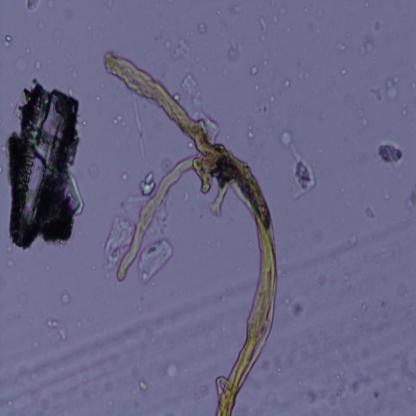Background material: (182, 71, 219, 132), (134, 236, 175, 282), (283, 139, 315, 194), (100, 216, 138, 258), (328, 371, 365, 405), (131, 102, 149, 168), (395, 349, 416, 392), (376, 140, 404, 168), (286, 295, 310, 323), (64, 59, 80, 99), (258, 84, 276, 119), (45, 317, 68, 343), (164, 39, 191, 61), (83, 19, 105, 45), (138, 167, 156, 197), (17, 360, 38, 385), (192, 377, 212, 403), (47, 22, 65, 48), (228, 34, 244, 63), (358, 244, 379, 266), (361, 197, 379, 222), (307, 222, 325, 246), (166, 359, 182, 386), (210, 17, 230, 38), (280, 126, 297, 149), (358, 32, 374, 56), (341, 274, 360, 294), (72, 308, 91, 328), (353, 107, 371, 128), (110, 109, 127, 130), (385, 74, 399, 99), (302, 384, 318, 405), (0, 253, 18, 271), (132, 377, 152, 393), (313, 270, 328, 291), (16, 56, 30, 76), (334, 35, 348, 55), (348, 228, 360, 249), (59, 4, 75, 19), (258, 14, 269, 35), (398, 104, 413, 119), (30, 56, 43, 73), (371, 84, 382, 104), (2, 30, 14, 47), (163, 156, 175, 173), (407, 187, 416, 209), (58, 292, 72, 306), (296, 70, 310, 84), (274, 7, 287, 22), (25, 1, 42, 12), (396, 284, 409, 298), (324, 73, 336, 88), (199, 20, 209, 38), (370, 385, 381, 400), (102, 0, 115, 12), (314, 7, 326, 20), (376, 298, 390, 309), (22, 42, 33, 56), (219, 64, 230, 78), (373, 19, 383, 34), (181, 192, 191, 206), (244, 126, 254, 140), (231, 4, 243, 15), (318, 109, 328, 122), (3, 393, 12, 407), (345, 94, 354, 108), (132, 398, 141, 412), (104, 396, 114, 408), (360, 299, 368, 313), (281, 80, 292, 90), (120, 171, 128, 184), (339, 183, 347, 196), (98, 80, 108, 90), (37, 22, 46, 33), (249, 83, 261, 91), (284, 22, 291, 35), (361, 0, 370, 10), (202, 64, 210, 75), (332, 259, 340, 270), (408, 60, 416, 71), (48, 0, 56, 9), (408, 81, 416, 90), (342, 66, 348, 78), (252, 66, 258, 78), (214, 8, 222, 16), (92, 166, 98, 176), (82, 118, 88, 125), (96, 93, 100, 103), (386, 195, 391, 202)
Cotton: (98, 48, 280, 414)
Diatom: (0, 82, 84, 250)
